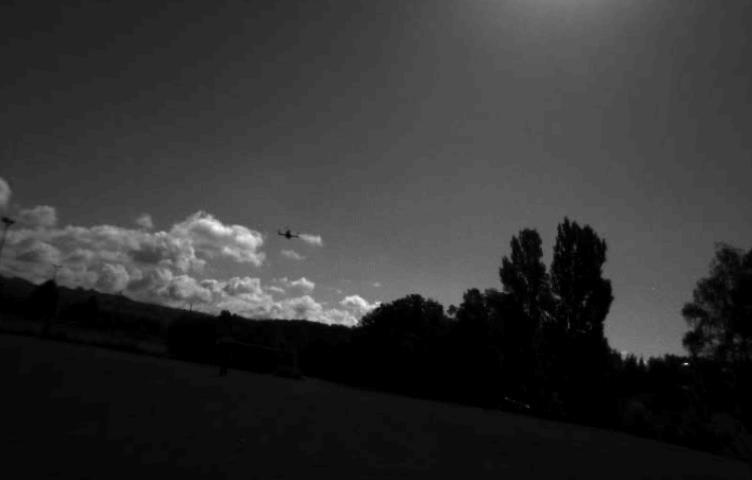drone: (271, 221, 307, 245)
